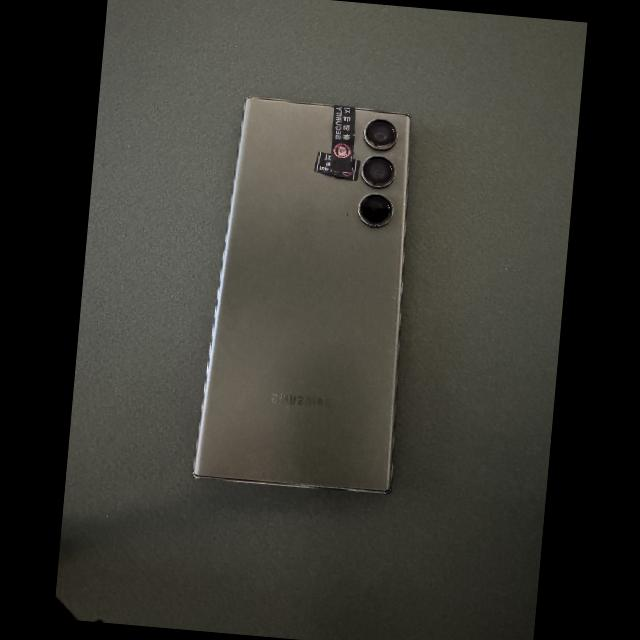lens: (354, 193, 393, 225), (361, 155, 394, 185), (363, 120, 397, 148)
phone: (193, 96, 410, 493)
sticker: (328, 105, 354, 171), (313, 150, 360, 181)
